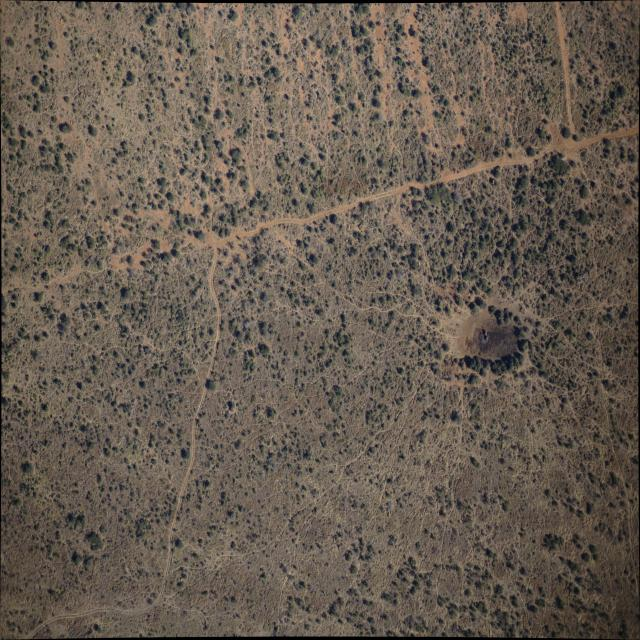elephant: (492, 178, 496, 185), (494, 211, 498, 218), (505, 234, 508, 239), (484, 331, 487, 336), (486, 335, 488, 341)
